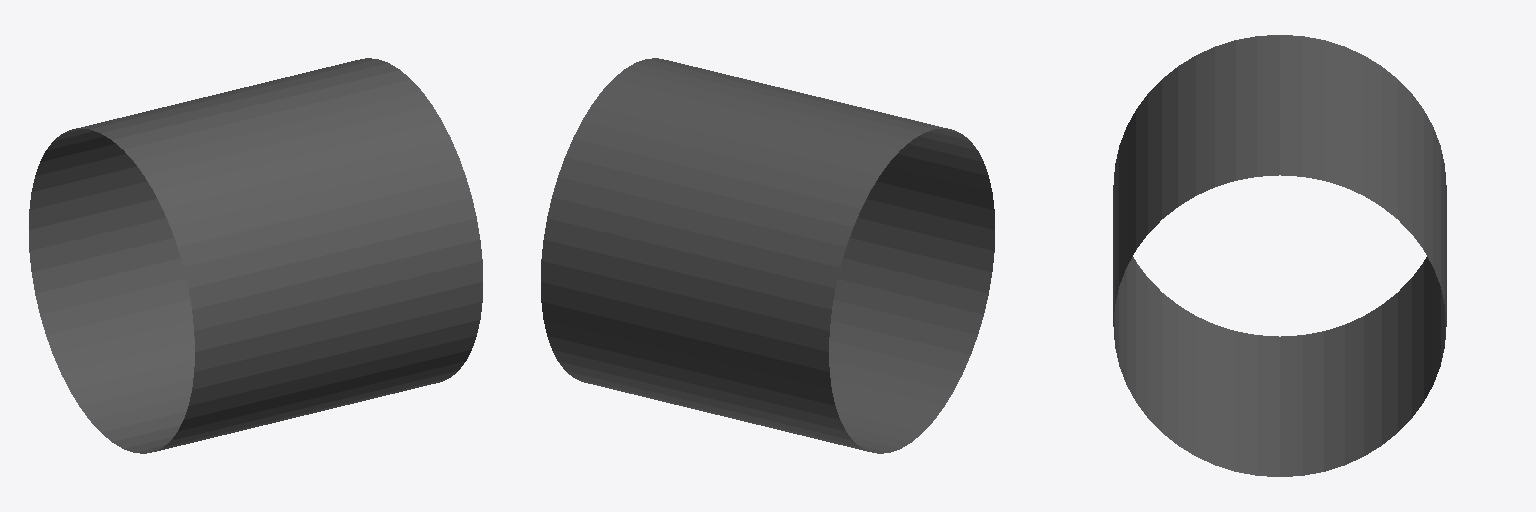
Rendered from pipeEdgeH.obj.
3 renders of one model, left to right at view 1: azimuth 30°, elevation 25°; view 2: azimuth 150°, elevation 25°; view 3: azimuth 270°, elevation 25°, orthographic.
Parts seen in each view (by area): view 1: BezierCircle_Mesh; view 2: BezierCircle_Mesh; view 3: BezierCircle_Mesh.
Part boxes in pixels (x1,y1,x2,y2): BezierCircle_Mesh: (29, 58, 482, 453); BezierCircle_Mesh: (541, 58, 994, 453); BezierCircle_Mesh: (1113, 35, 1446, 476).
Size of the model in its own units: 4 by 4 by 4.